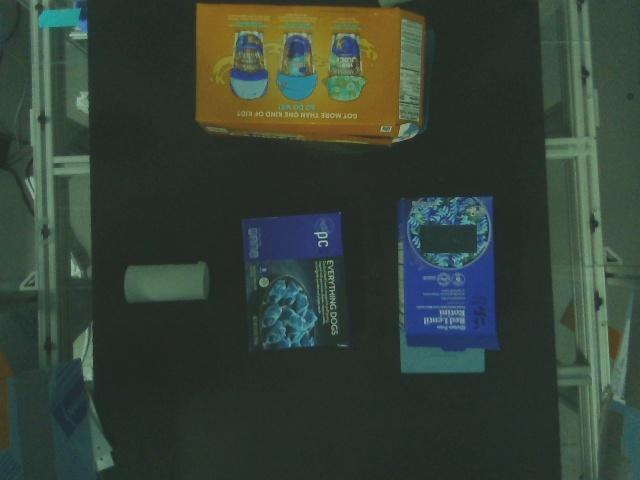cardboard: (196, 4, 427, 146), (398, 196, 498, 374), (240, 212, 347, 351), (125, 261, 209, 304)
